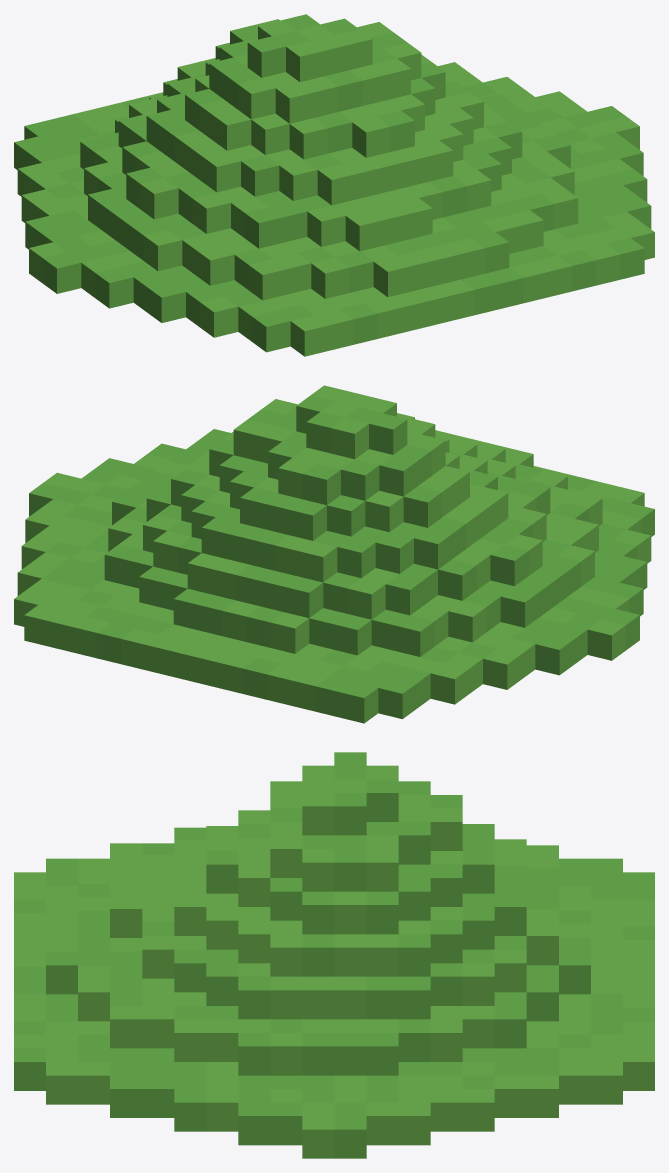
File: overworld-26-grassland_hill.obj
3 views of the same model, one above another, from view 1: azimuth 30°, elevation 25°; view 2: azimuth 150°, elevation 25°; view 3: azimuth 270°, elevation 25° (orthographic). The views are drawn at different scales.
Visible parts, largest first — view 1: grassland_hill; view 2: grassland_hill; view 3: grassland_hill.
Boxes of the visible parts, left/top/right/bottom form: grassland_hill: left=14, top=14, right=654, bottom=356; grassland_hill: left=14, top=385, right=654, bottom=723; grassland_hill: left=14, top=752, right=654, bottom=1158.
Bounding box in the file's own units: 2.4 × 0.7 × 2.
Materials: 1 (1 with a texture image).
